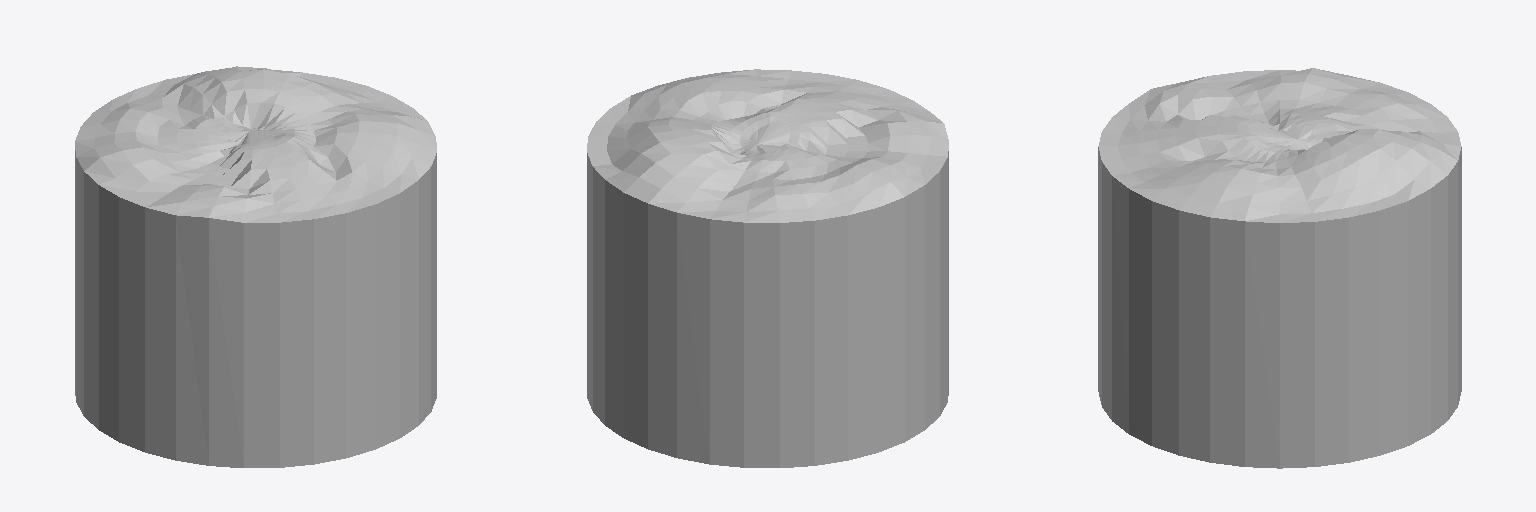
Rendered from dough.obj.
3 views of the same model, side by side, from view 1: azimuth 30°, elevation 25°; view 2: azimuth 150°, elevation 25°; view 3: azimuth 270°, elevation 25° (orthographic).
Visible parts, largest first — view 1: Cylinder; view 2: Cylinder; view 3: Cylinder.
Part boxes in pixels (x1,y1,x2,y2): Cylinder: (75, 66, 436, 467); Cylinder: (587, 69, 948, 467); Cylinder: (1098, 68, 1461, 468).
Bounding box in the file's own units: 2 × 1.65 × 2.